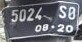plate: (1, 2, 79, 37)
